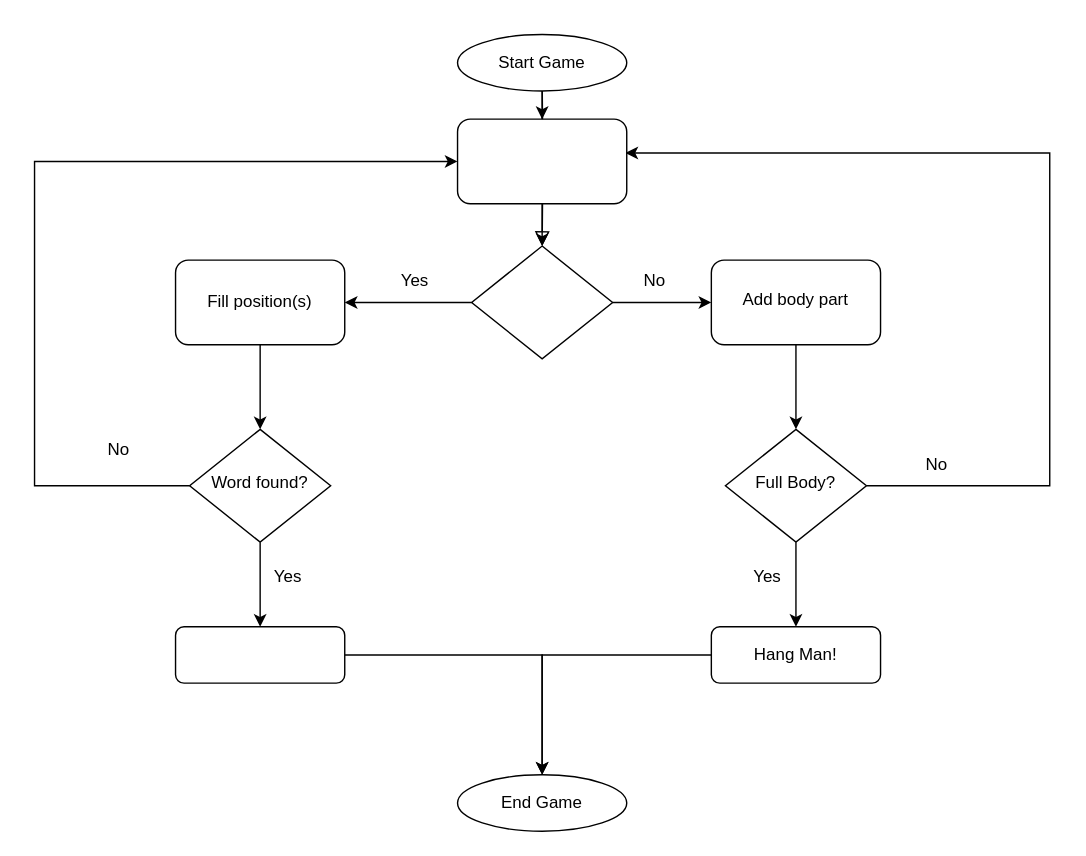
Some shapes in this 1086 by 856 pixel diagram are drawn without their labels. Each missing label, with the centre of its shape:
"Choose letter" belongs at point (541, 161).
"Letter in Word?" belongs at point (541, 302).
"You Won !" belongs at point (259, 654).
